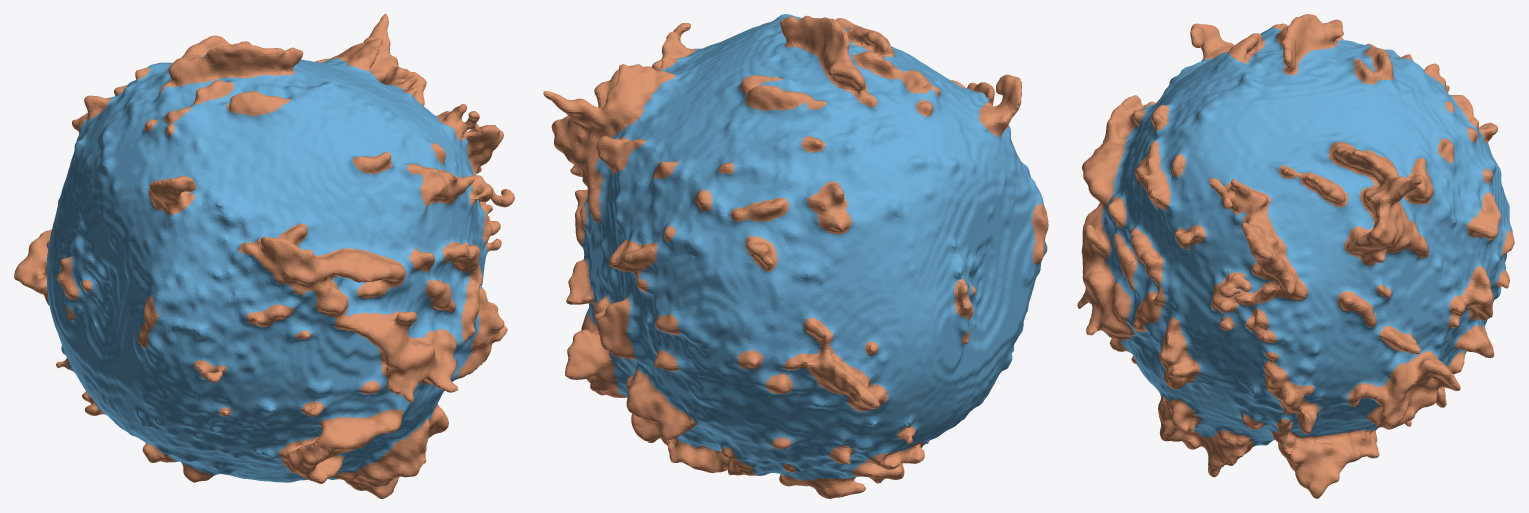
3 views of the same model, side by side, from view 1: azimuth 30°, elevation 25°; view 2: azimuth 150°, elevation 25°; view 3: azimuth 270°, elevation 25° (orthographic). The views are drawn at different scales.
Size of the model in its own units: 155 by 164 by 157.
